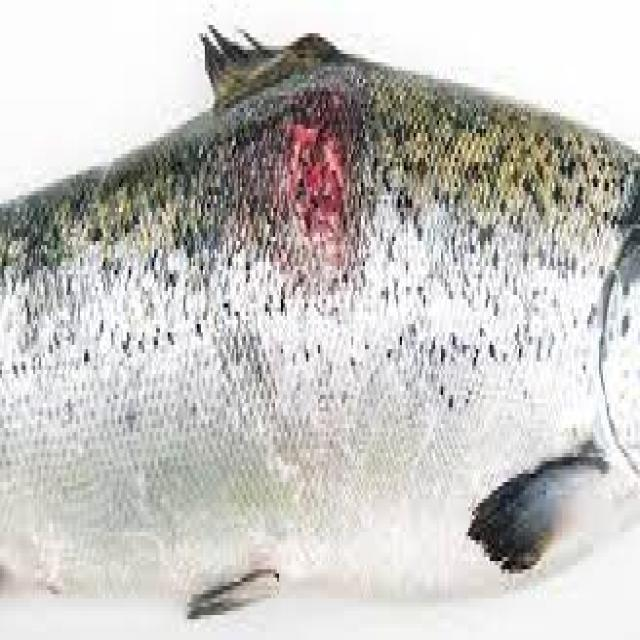EUS Disease: (3, 27, 613, 627), (195, 71, 469, 324)
